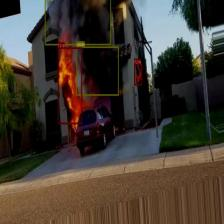fire: (58, 47, 82, 124), (134, 64, 142, 85)
smoke: (44, 0, 110, 45), (76, 46, 119, 95)
